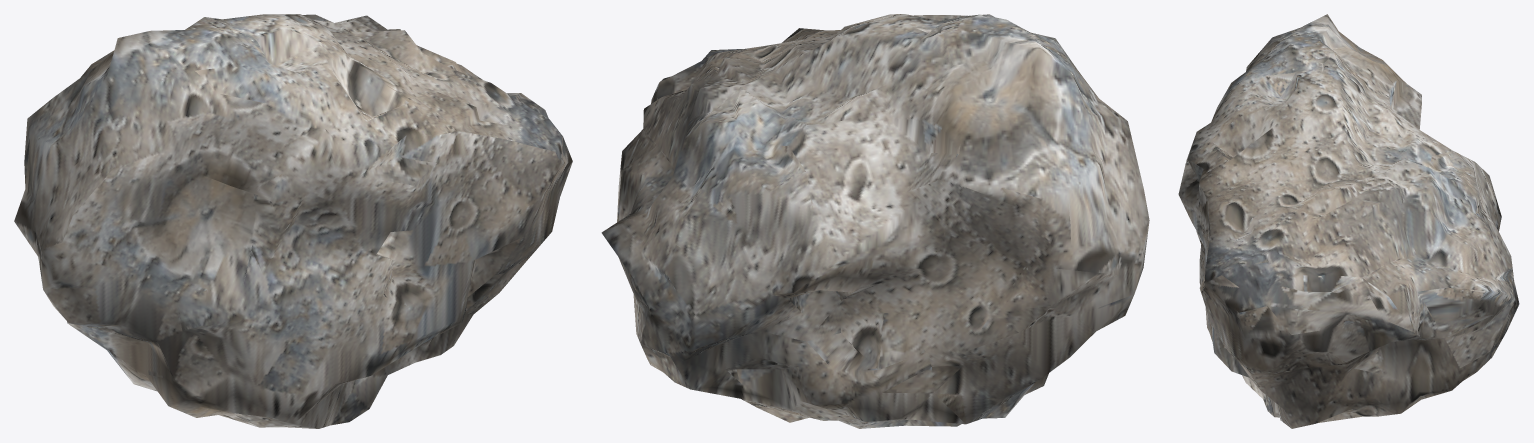
File: asteroid_06.glb
The picture shows the model from 3 angles, left to right: view 1: azimuth 30°, elevation 25°; view 2: azimuth 150°, elevation 25°; view 3: azimuth 270°, elevation 25°; orthographic projection. The views are drawn at different scales.
Visible parts, largest first — view 1: Mesh_0; view 2: Mesh_0; view 3: Mesh_0.
Boxes of the visible parts, x1=… form: Mesh_0: x1=14, y1=14, x2=572, y2=428; Mesh_0: x1=601, y1=14, x2=1149, y2=428; Mesh_0: x1=1178, y1=14, x2=1519, y2=428.
Bounding box in the file's own units: 1.9 × 1.49 × 1.42.
1 material, 1 textured.
